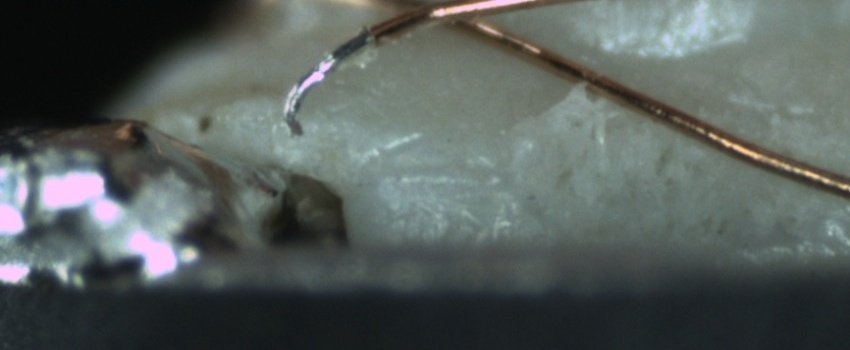CL: (411, 0, 528, 38)
DL: (388, 159, 507, 201)
